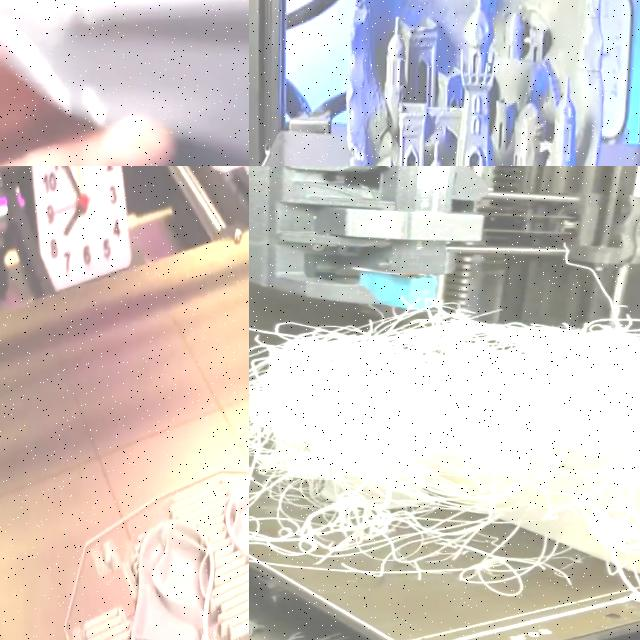spaghetti: (249, 286, 640, 633)
